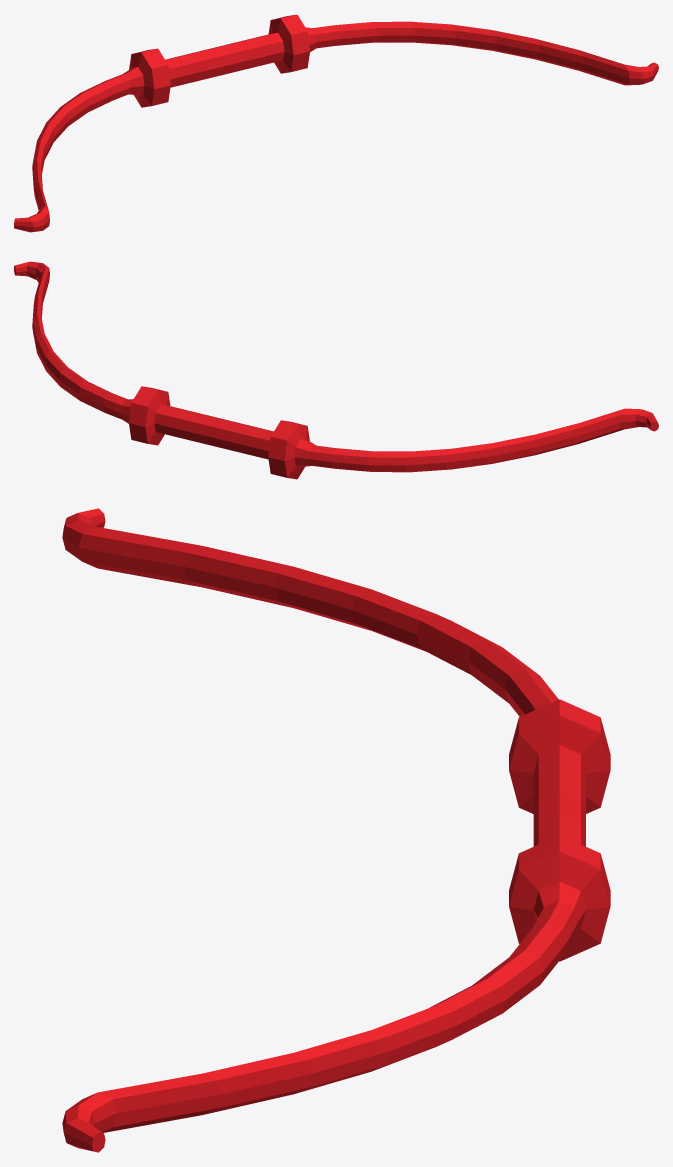
Rendered from Bow.fbx.
The picture shows the model from 3 angles, top to bottom: view 1: azimuth 30°, elevation 25°; view 2: azimuth 150°, elevation 25°; view 3: azimuth 270°, elevation 25°; orthographic projection. The views are drawn at different scales.
Visible parts, largest first — view 1: Model; view 2: Model; view 3: Model.
Part boxes in pixels (bbox=[...]): Model: bbox=[14, 14, 658, 232]; Model: bbox=[14, 261, 658, 479]; Model: bbox=[62, 508, 610, 1152].
Size of the model in its own units: 2.82 by 0.2309 by 1.04.
